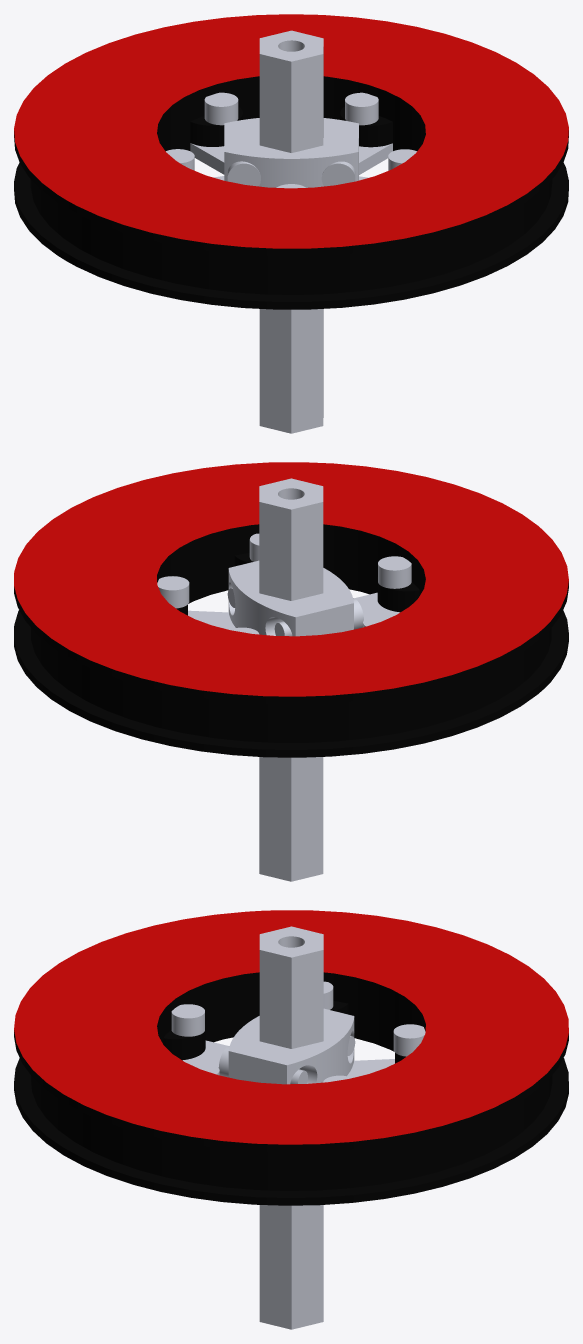
Rendered from TOOTHED BELT PULLEY 46T.fbx.
3 renders of one model, top to bottom at view 1: azimuth 30°, elevation 25°; view 2: azimuth 150°, elevation 25°; view 3: azimuth 270°, elevation 25°, orthographic.
Parts seen in each view (by area): view 1: Assemblage grand pignon; view 2: Assemblage grand pignon; view 3: Assemblage grand pignon.
Boxes of the visible parts, left/top/right/bottom form: Assemblage grand pignon: left=14, top=14, right=568, bottom=433; Assemblage grand pignon: left=14, top=462, right=568, bottom=881; Assemblage grand pignon: left=14, top=910, right=568, bottom=1329.
Bounding box in the file's own units: 1649 × 1220 × 1649.
